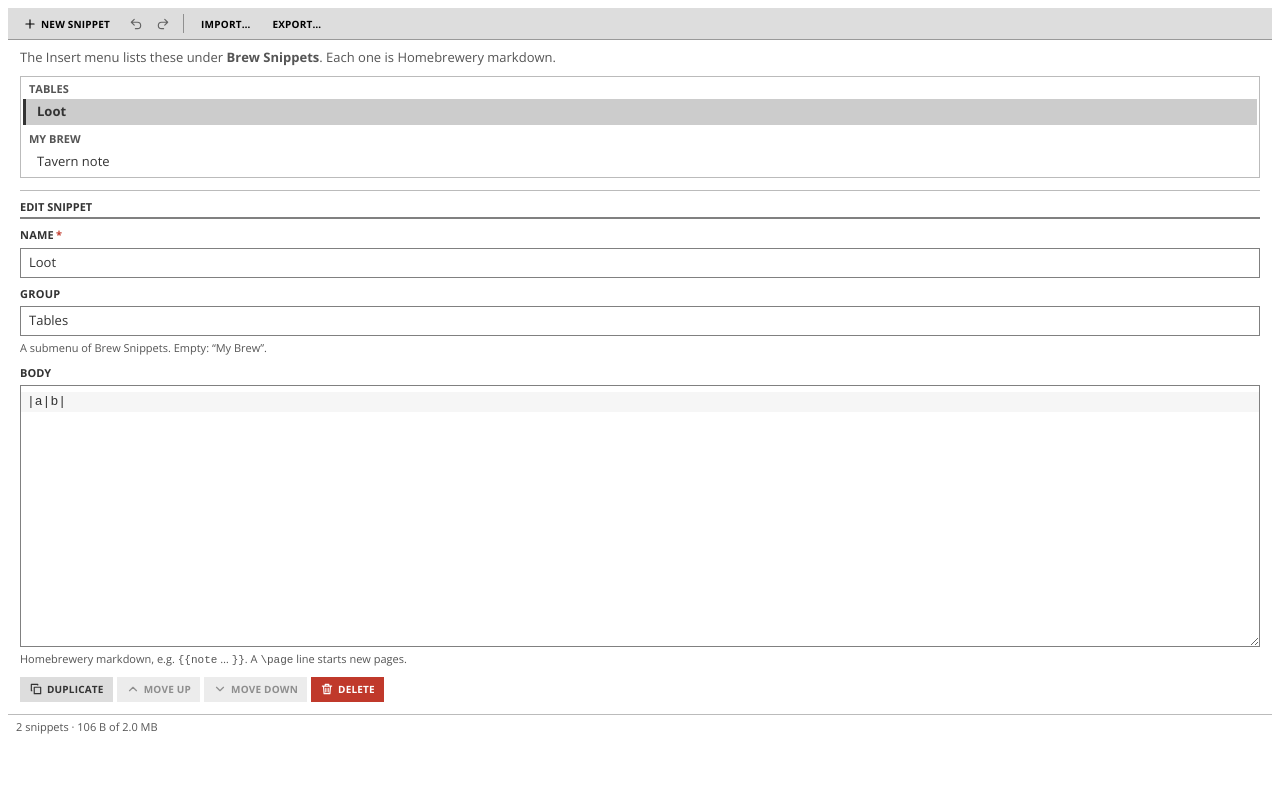
SnippetsEditor › shows errors on the fields and counts them
The image size is (1280, 800).
Replace the text in the field labelled "Name*" with "tavern NOTE" at (640,262), box x1=20 y1=248 x2=1260 y2=278
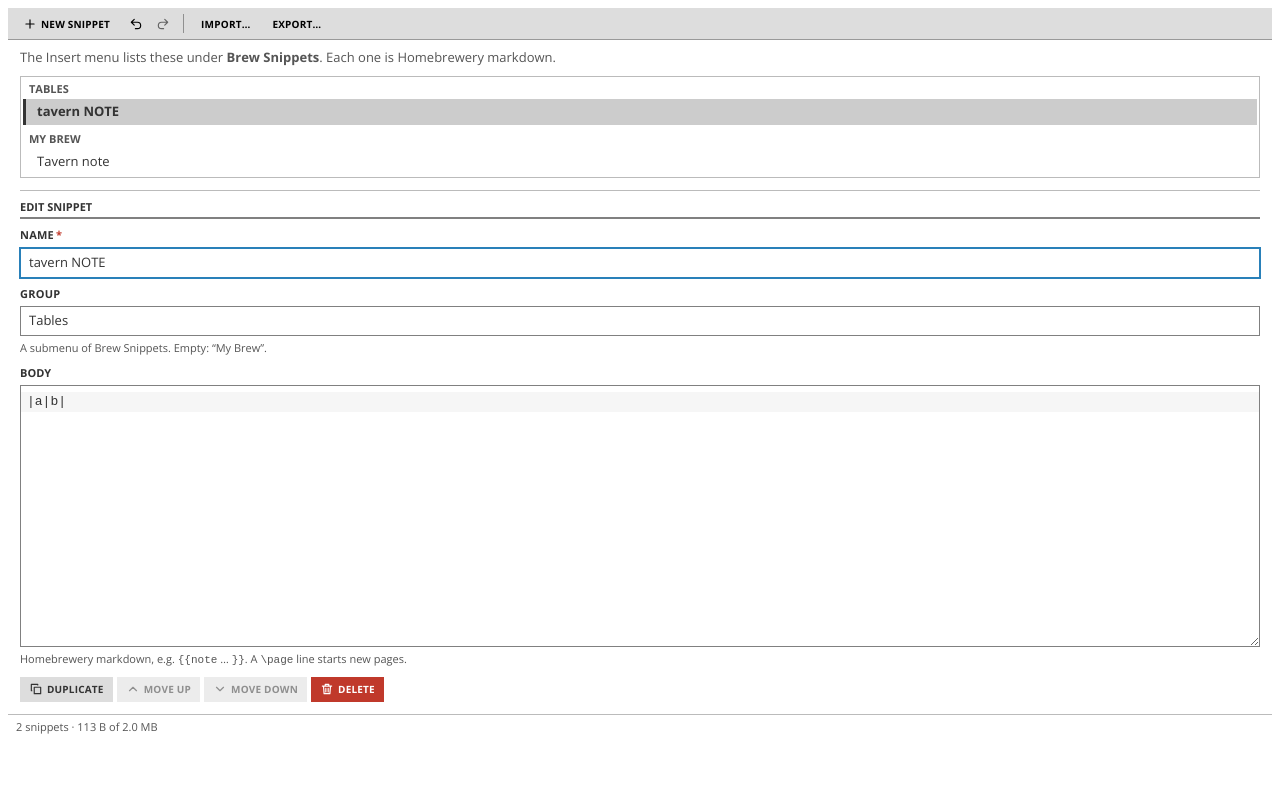
Clear the field labelled "Group" at (640,321), box x1=20 y1=306 x2=1260 y2=336
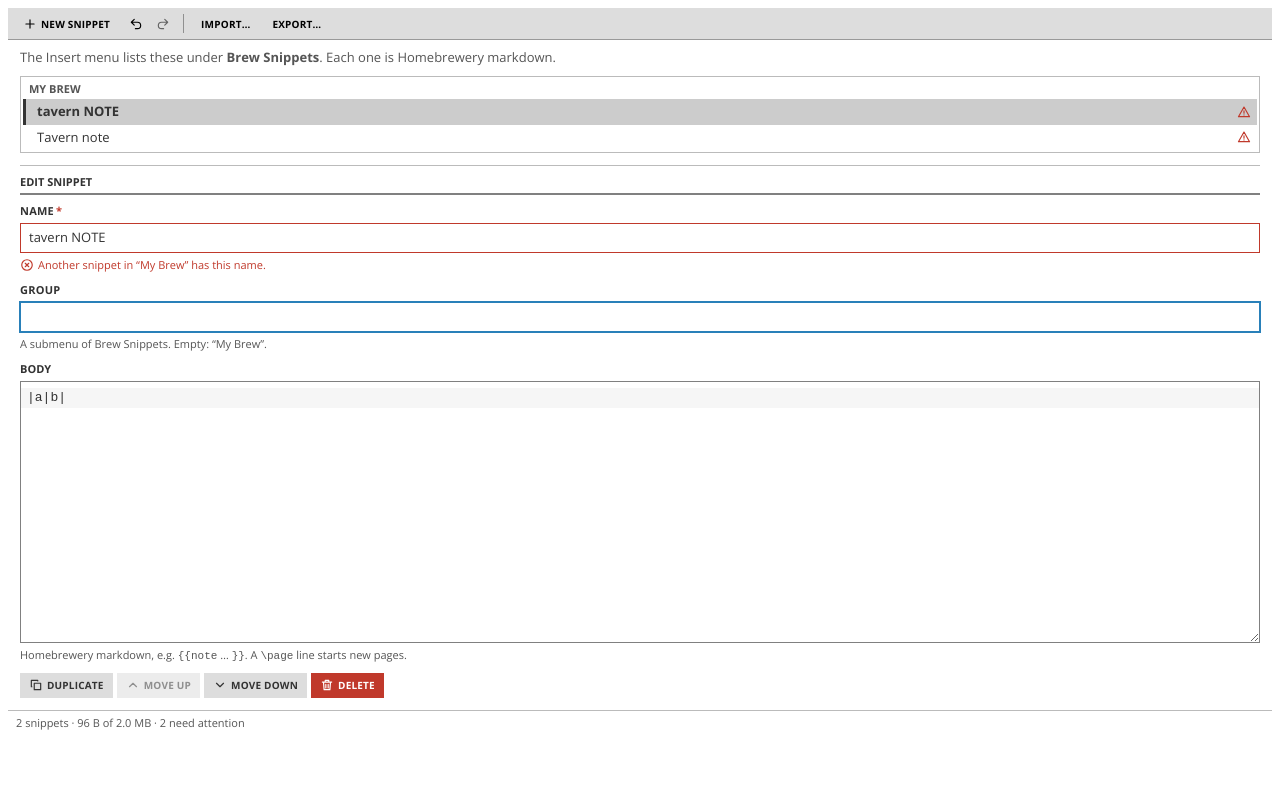
expect the text with test id "snippets-status" shows "2 need attention": met, box x1=151 y1=714 x2=245 y2=730
Clear the field labelled "Name*" at (640,238), box x1=20 y1=223 x2=1260 y2=253
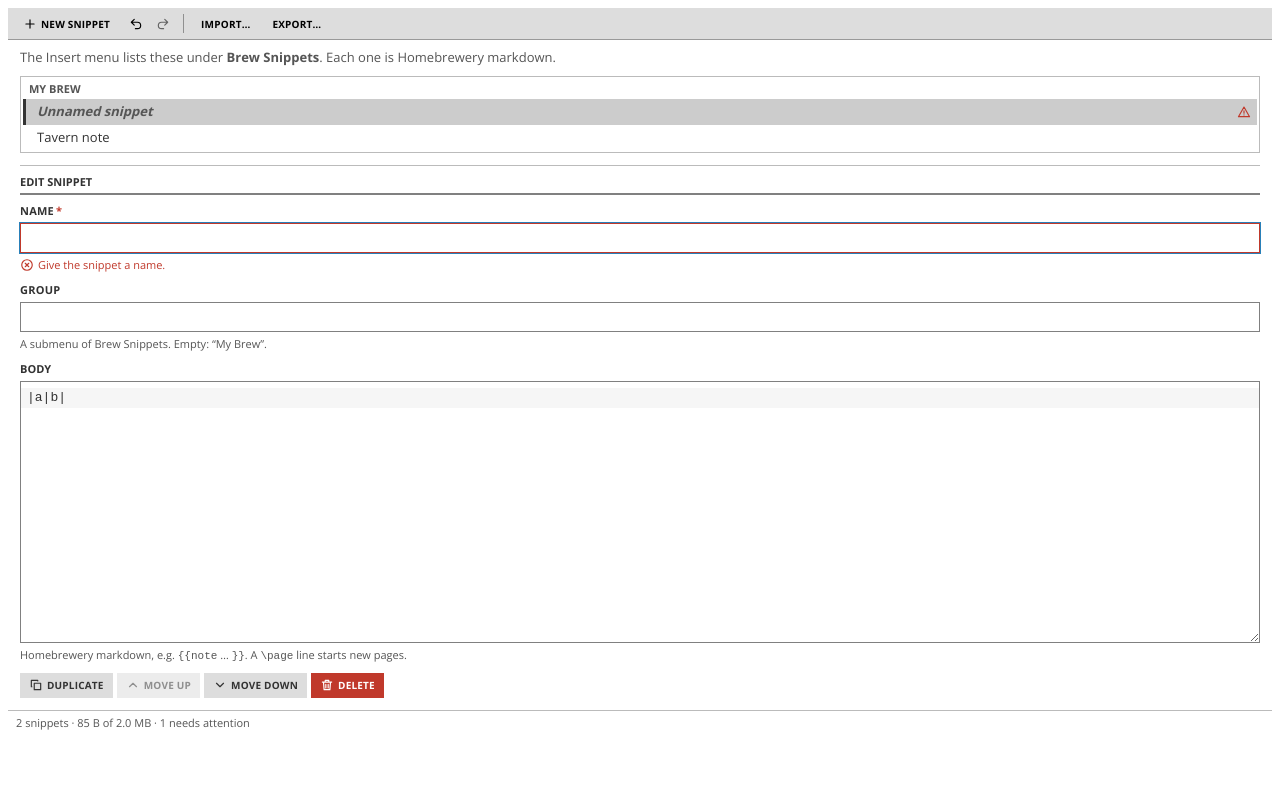
expect the option "Unnamed snippet" is shown: met, box x1=23 y1=99 x2=1257 y2=124
